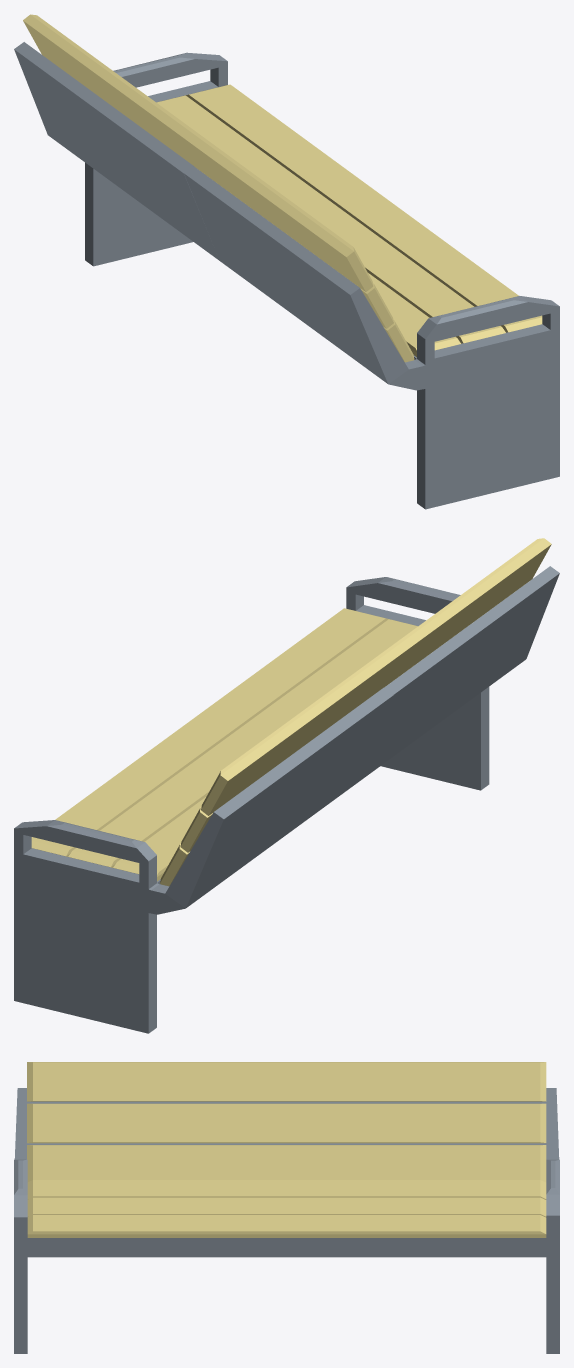
Rendered from bench-test.glb.
3 renders of one model, top to bottom at view 1: azimuth 30°, elevation 25°; view 2: azimuth 150°, elevation 25°; view 3: azimuth 270°, elevation 25°, orthographic. The views are drawn at different scales.
Visible parts, largest first — view 1: bench, plank, plank.003, plank.005, plank.001, plank.004; view 2: bench, plank, plank.003, plank.005, plank.001; view 3: plank.004, plank.003, bench, plank.002, plank, plank.005, plank.001.
Boxes of the visible parts, x1,y1,x2,y2 form: bench: (14, 42, 559, 509); plank: (185, 84, 542, 332); plank.003: (23, 14, 373, 291); plank.005: (156, 95, 505, 343); plank.001: (368, 273, 460, 356); plank.004: (360, 283, 393, 328); bench: (14, 566, 559, 1033); plank: (31, 608, 388, 856); plank.003: (201, 538, 551, 815); plank.005: (68, 619, 417, 867); plank.001: (113, 797, 205, 881); plank.004: (27, 1103, 546, 1143); plank.003: (27, 1062, 546, 1101); bench: (14, 1088, 559, 1353); plank.002: (27, 1145, 546, 1182); plank: (27, 1215, 546, 1237); plank.005: (27, 1197, 546, 1217); plank.001: (27, 1180, 546, 1199).
Size of the model in its own units: 1.25 by 1.55 by 3.56.
